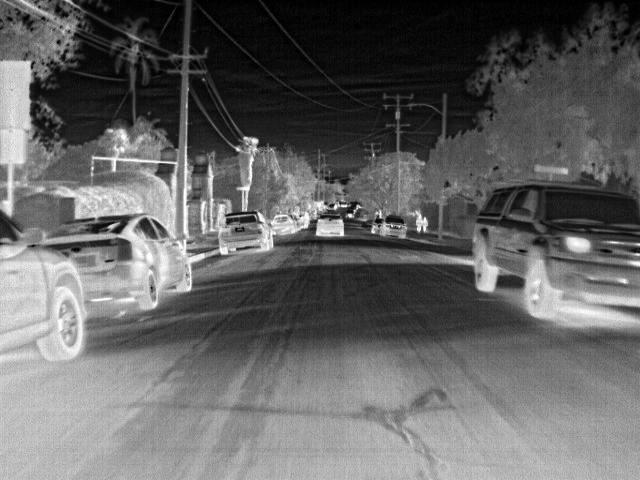car: (468, 178, 640, 320), (31, 212, 195, 312), (1, 210, 85, 365), (218, 210, 276, 255), (317, 213, 347, 238), (384, 217, 407, 239), (273, 214, 293, 234), (293, 214, 309, 228), (370, 218, 384, 234), (346, 209, 356, 219), (354, 201, 362, 210)
person: (421, 214, 431, 233), (416, 212, 423, 229)
